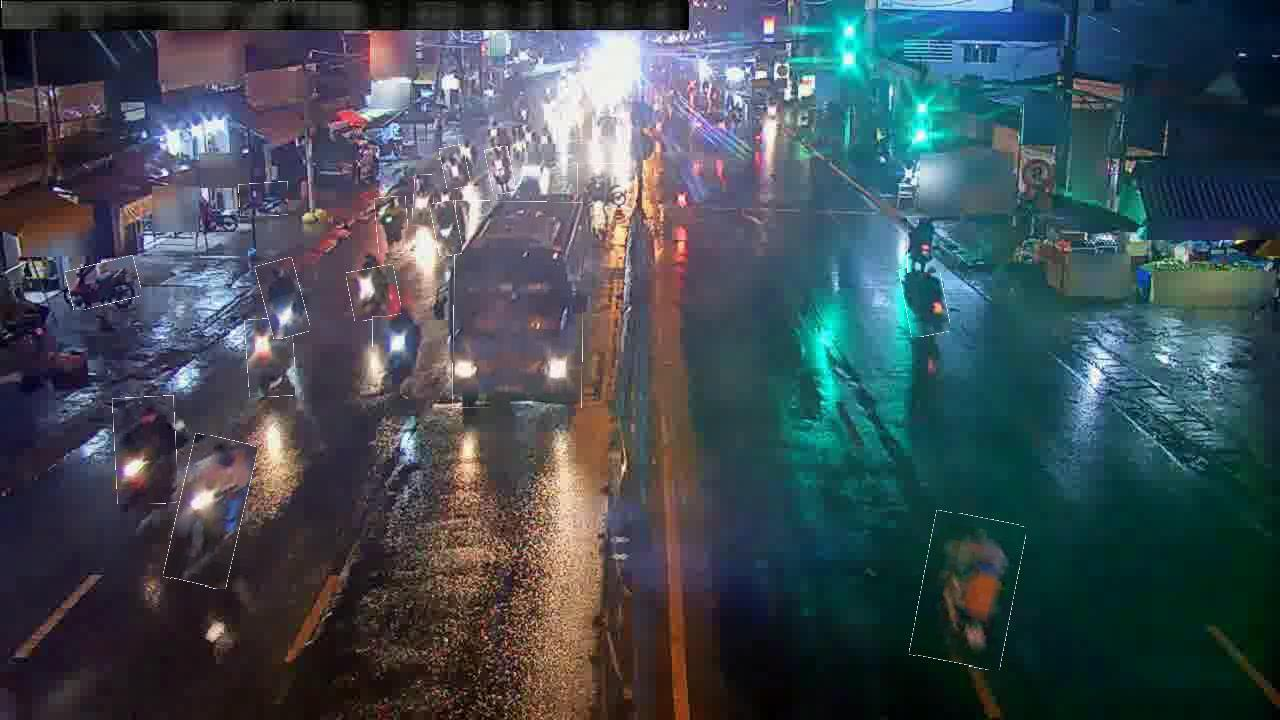14: (453, 201, 584, 409)
motorbike: (916, 514, 1020, 668), (171, 436, 251, 588), (114, 396, 177, 505), (246, 318, 295, 398), (260, 259, 307, 339), (67, 259, 141, 308), (902, 264, 948, 337), (373, 316, 426, 378), (348, 266, 400, 320), (577, 163, 626, 206), (908, 216, 942, 274), (375, 196, 408, 254), (239, 182, 289, 217), (433, 201, 461, 257), (487, 147, 514, 195), (441, 145, 469, 189), (413, 175, 435, 227), (459, 135, 476, 169)
